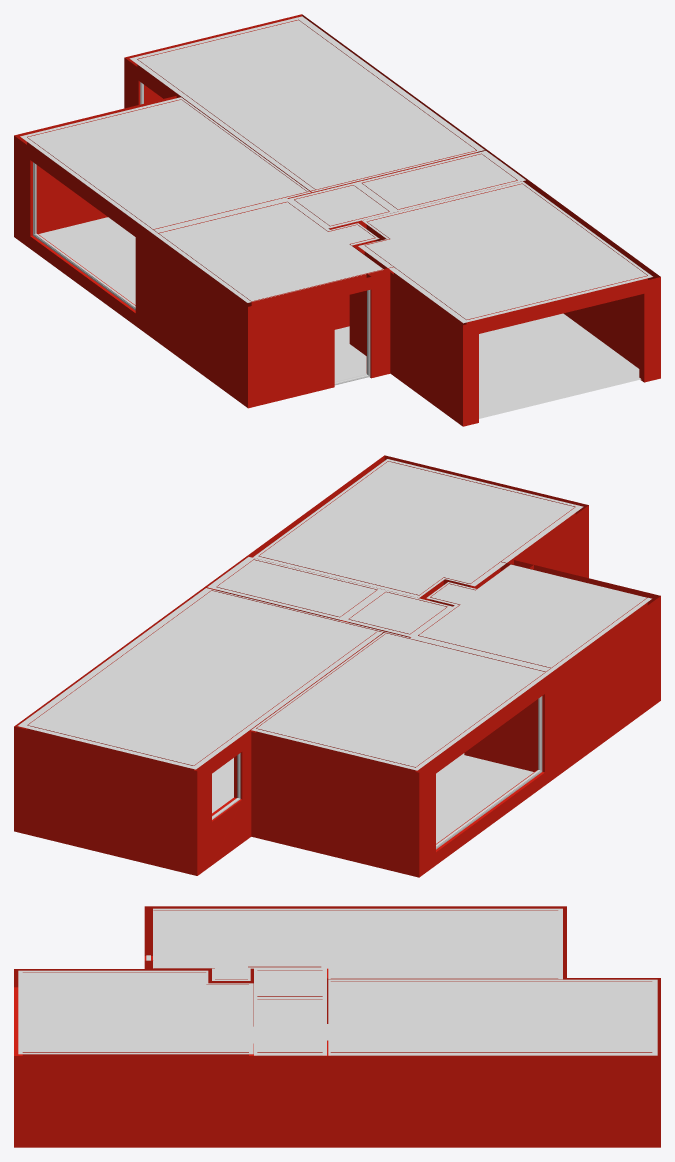
Rendered from Doorframes.fbx.
3 renders of one model, top to bottom at view 1: azimuth 30°, elevation 25°; view 2: azimuth 150°, elevation 25°; view 3: azimuth 270°, elevation 25°, orthographic. The views are drawn at different scales.
Parts seen in each view (by area): view 1: Ceiling.001, Walls, Ceiling.002, Ceiling; view 2: Ceiling.001, Walls, Ceiling.002, Ceiling; view 3: Ceiling.001, Walls.
Part boxes in pixels (x1,y1,x2,y2): Ceiling.001: (20, 16, 652, 323); Walls: (14, 14, 660, 426); Ceiling.002: (38, 217, 641, 418); Ceiling: (33, 82, 370, 385); Ceiling.001: (18, 459, 651, 770); Walls: (14, 455, 660, 877); Ceiling.002: (212, 753, 533, 843); Ceiling: (212, 696, 542, 849); Ceiling.001: (18, 908, 657, 1055); Walls: (14, 906, 660, 1147).
Size of the model in its own units: 841 by 240 by 1537.
